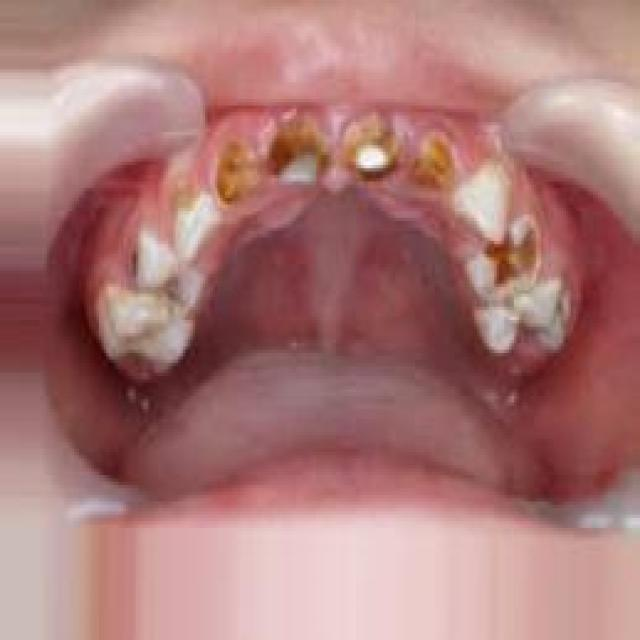caries: (471, 213, 543, 300), (265, 111, 338, 192), (339, 111, 406, 188), (210, 134, 264, 215), (404, 121, 460, 195), (170, 164, 209, 233), (125, 235, 156, 294)
